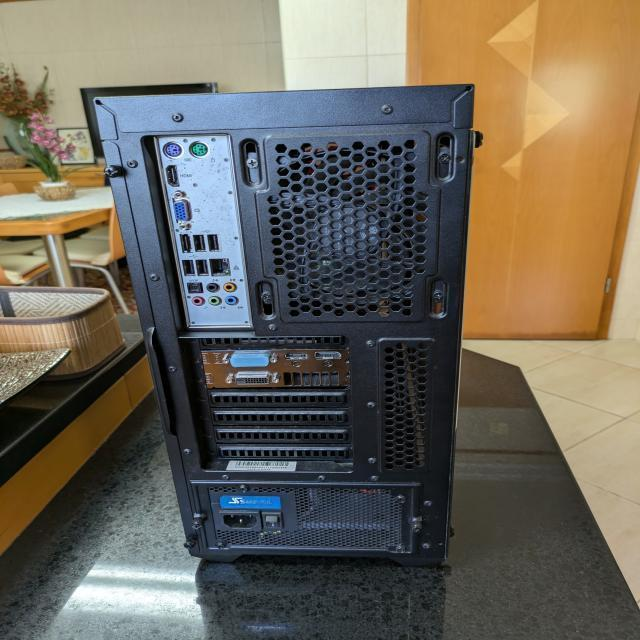PSU: (208, 486, 410, 551)
